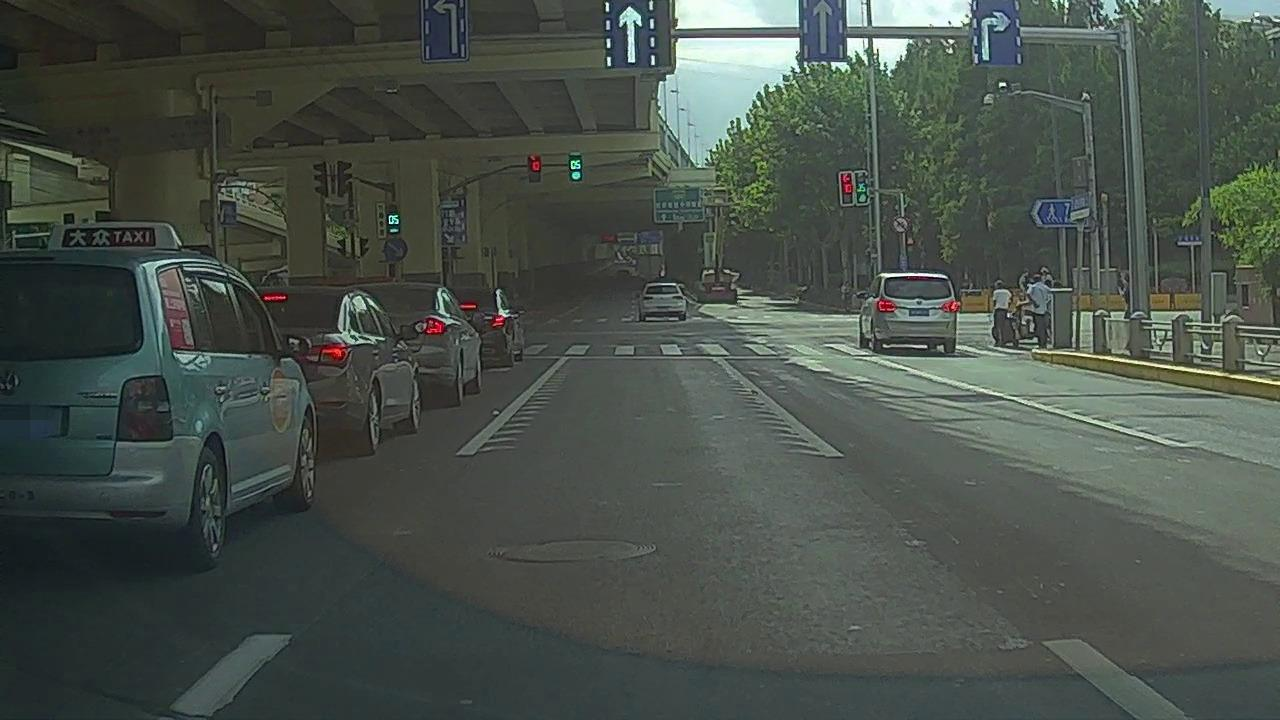traffic_light: (839, 172, 854, 205), (854, 170, 868, 205), (568, 154, 584, 182), (527, 155, 542, 182)
